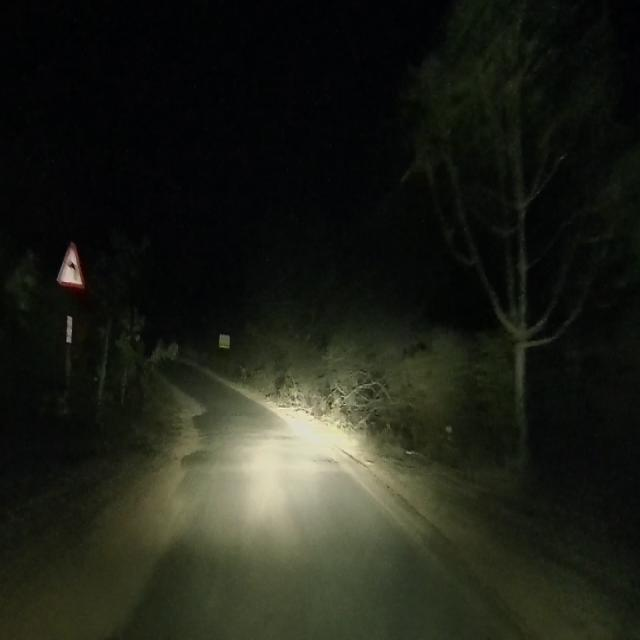left-hand-curve: (58, 240, 80, 287)
